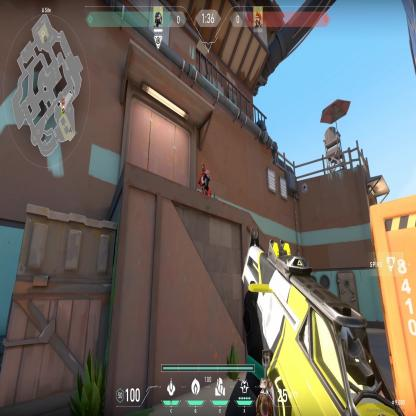enemy: (197, 161, 211, 199)
